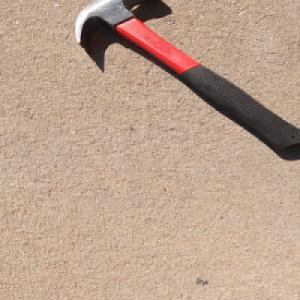Hammer: (68, 0, 300, 152)
